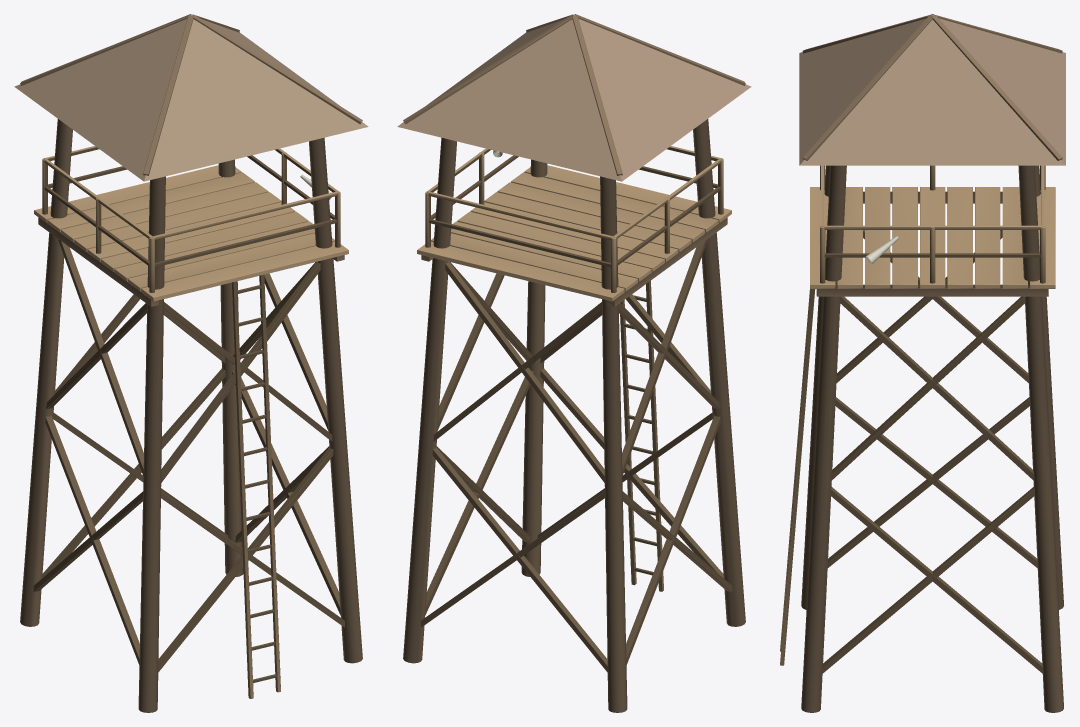
File: dh_watchtower.glb
3 views of the same model, side by side, from view 1: azimuth 30°, elevation 25°; view 2: azimuth 150°, elevation 25°; view 3: azimuth 270°, elevation 25° (orthographic). The views are drawn at different scales.
Visible parts, largest first — view 1: dh_watchtower; view 2: dh_watchtower; view 3: dh_watchtower.
Part boxes in pixels (bbox=[...]): dh_watchtower: bbox=[14, 14, 368, 712]; dh_watchtower: bbox=[397, 14, 751, 712]; dh_watchtower: bbox=[780, 14, 1065, 712].
Bounding box in the file's own units: 4.6 × 12.26 × 4.93.
